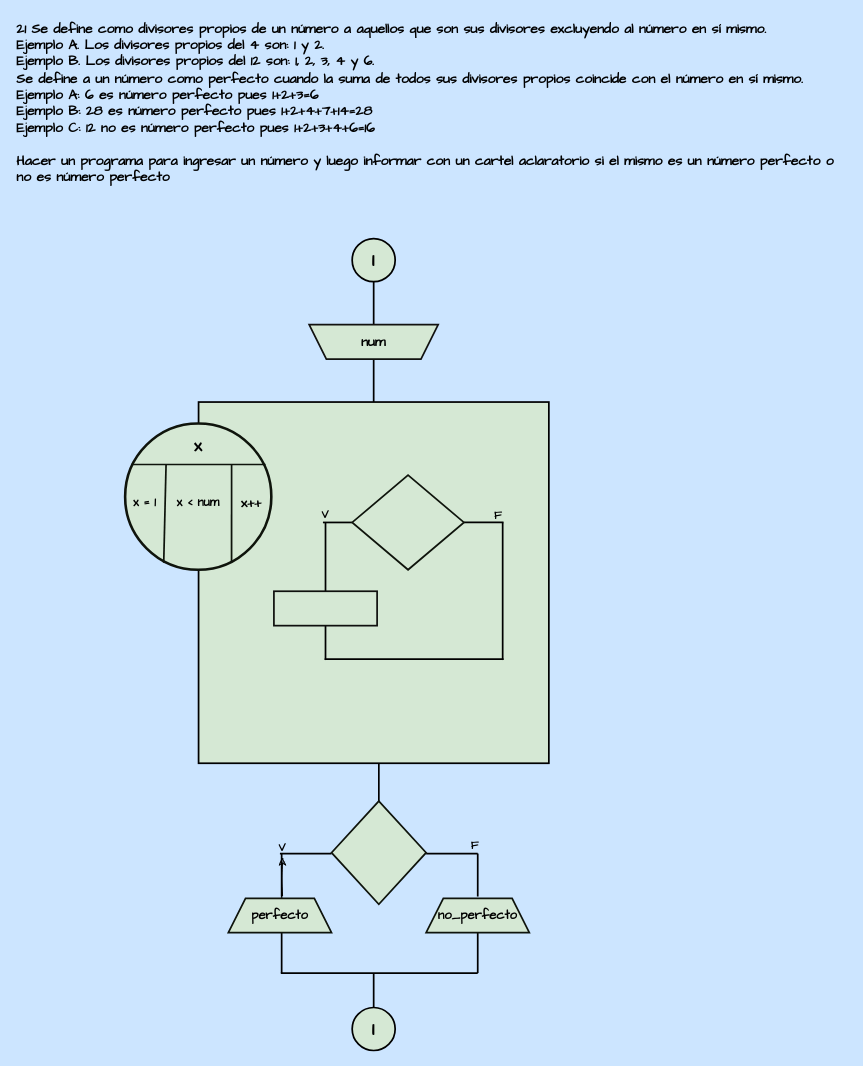
Some shapes in this 863 by 1066 pixel diagram are drawn without their labels. The shapes that lost their labels are listed below. From the top down, each one's centre as x and y in pixels, then its label:
At point 407,522: "num % x == 0".
At point 325,608: "acu_div += x".
At point 378,852: "acu_div == num".
